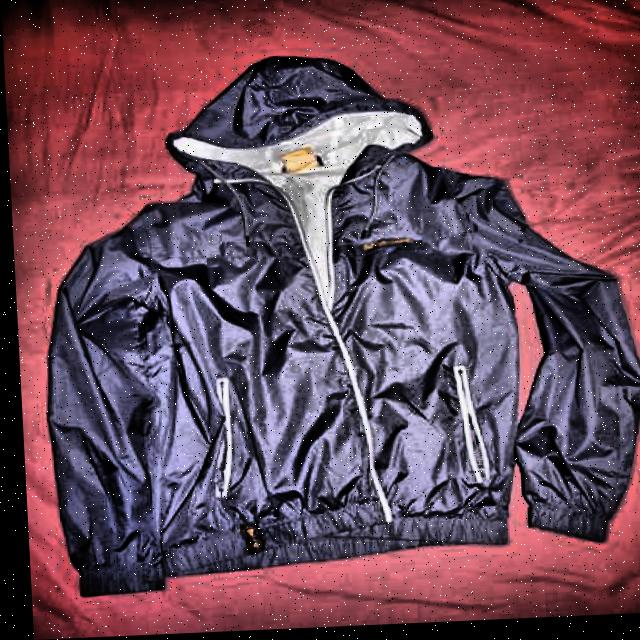clothes: (27, 37, 640, 596)
